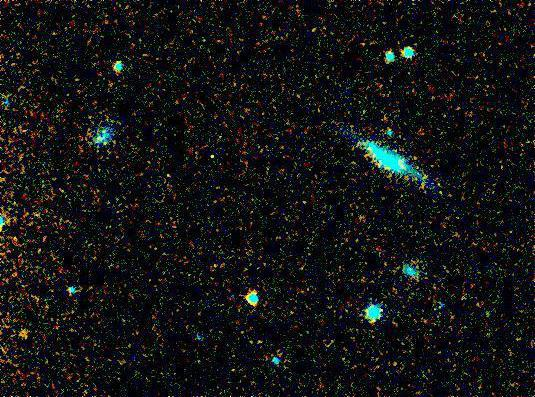star: (367, 146, 397, 176)
